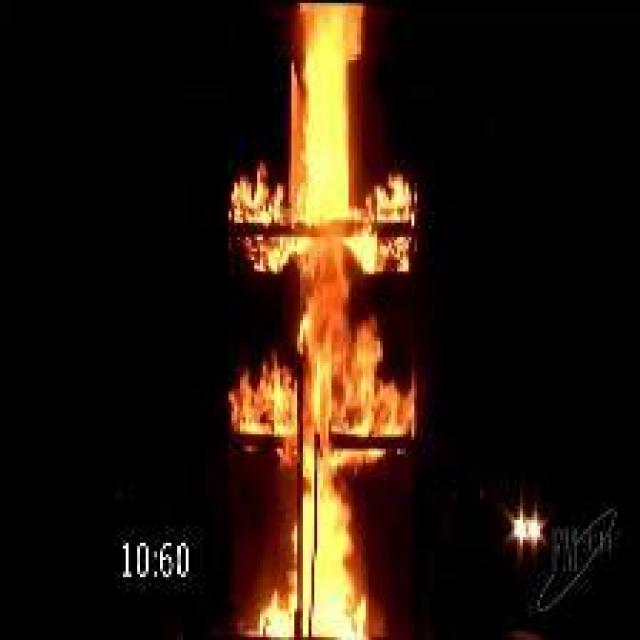fire: (220, 5, 423, 634)
other: (498, 499, 548, 556)
